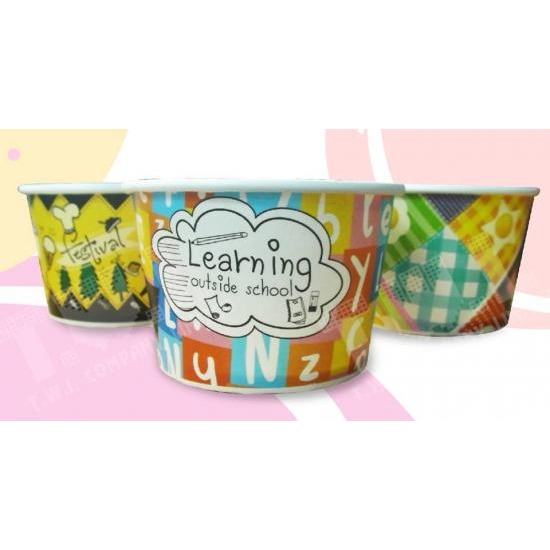PaperCup: (128, 178, 409, 396)
